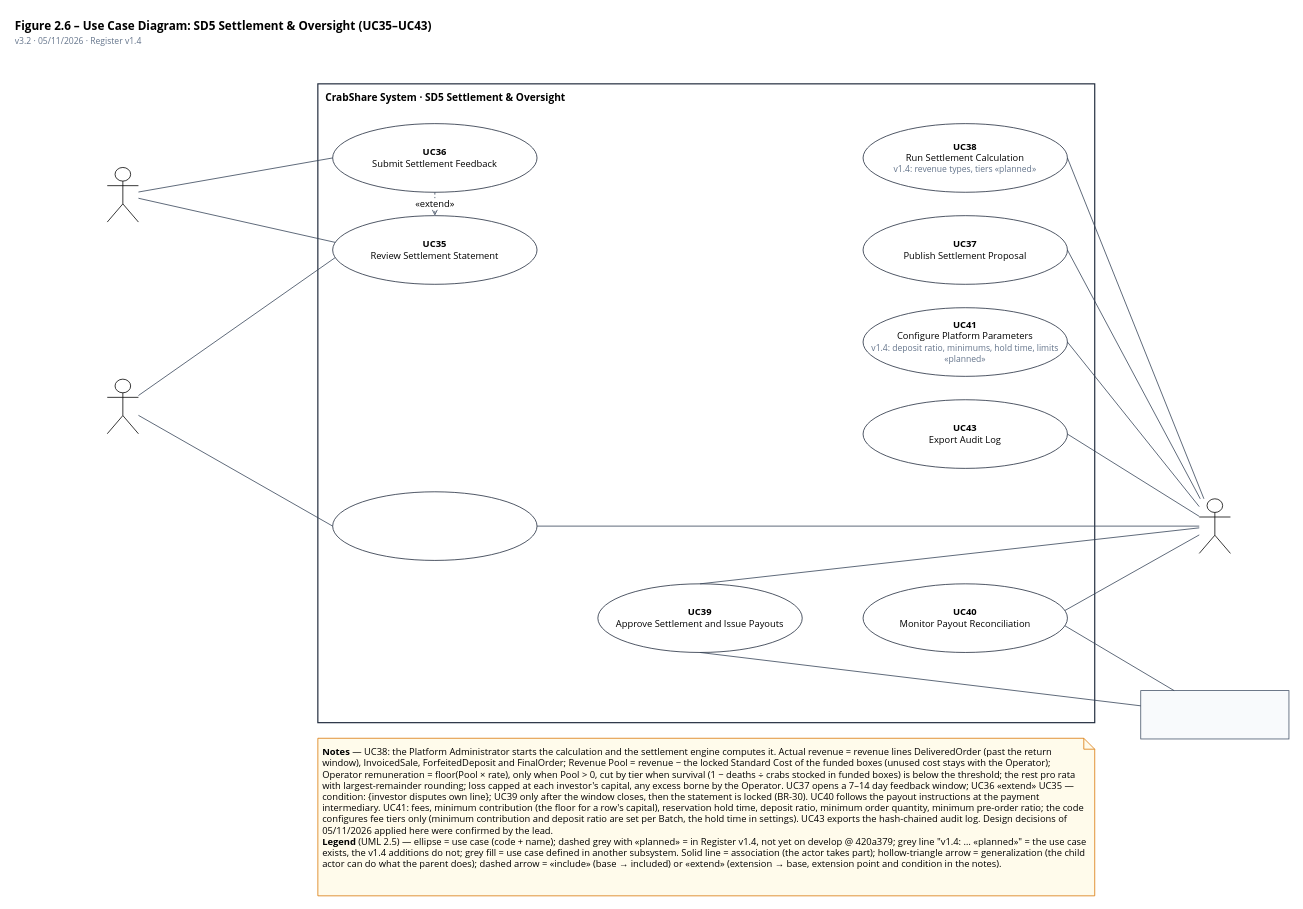
Some shapes in this 1303 by 909 pixel diagram are drawn without their labels. The shapes that lost their labels are listed below. From the top down, each one's centre as x and y in pixels, then its label:
At (122,194): "Investor".
At (122,406): "Operator".
At (434,525): "UC42 Monitor Platform Reports".
At (1214,525): "Platform Administrator".
At (1214,714): "«actor» Payment Service Provider (payment intermediary)".
